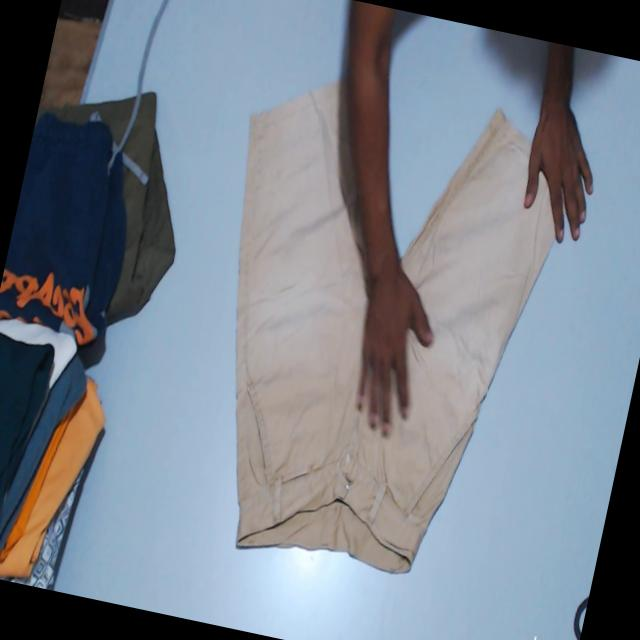new-garment: (236, 82, 554, 572)
